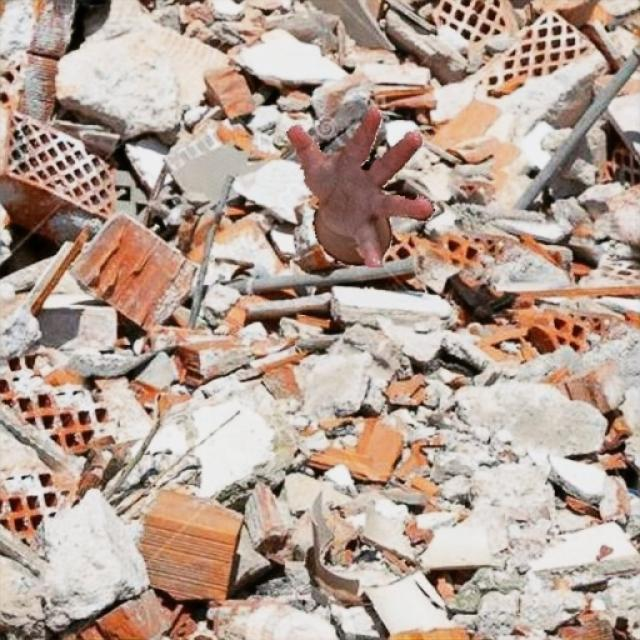Person in Rubble: (286, 108, 434, 266)
